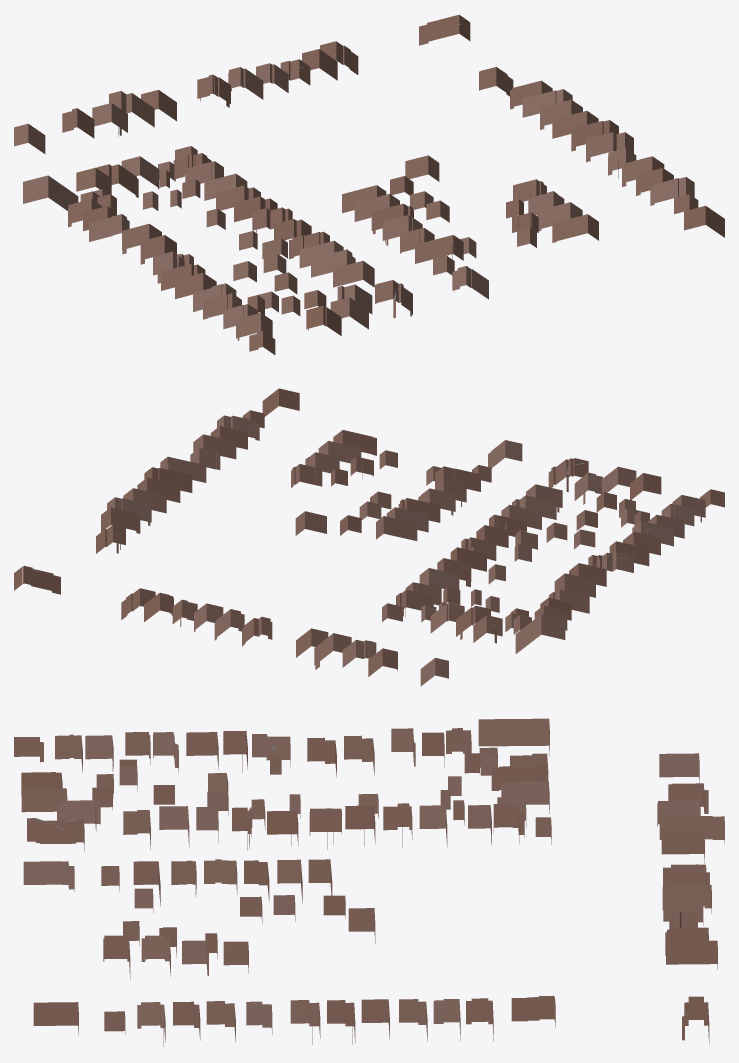
File: c_1639_17824_buildings_residential.glb
3 views of the same model, one above another, from view 1: azimuth 30°, elevation 25°; view 2: azimuth 150°, elevation 25°; view 3: azimuth 270°, elevation 25° (orthographic). The views are drawn at different scales.
Visible parts, largest first — view 1: geometry_0; view 2: geometry_0; view 3: geometry_0.
Boxes of the visible parts, x1,y1,x2,y2 form: geometry_0: (14,14,724,354); geometry_0: (14,388,724,686); geometry_0: (14,718,724,1046).
Bounding box in the file's own units: 263 × 11.08 × 261.
